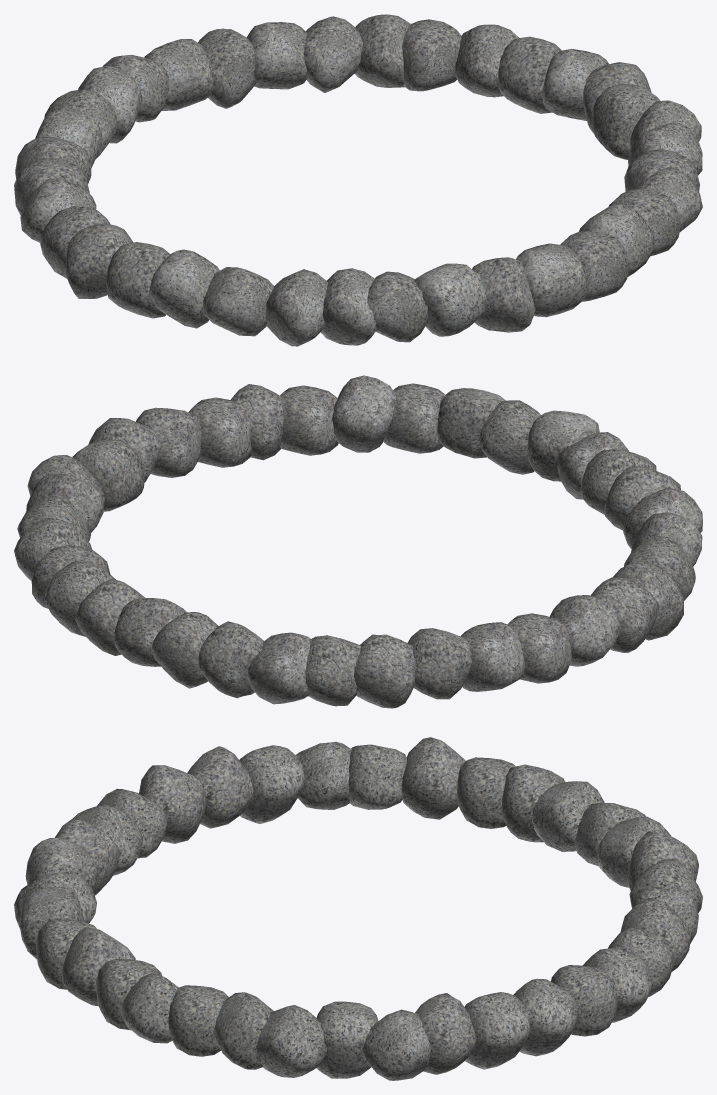
The model's file is RockCircle.fbx.
3 renders of one model, top to bottom at view 1: azimuth 30°, elevation 25°; view 2: azimuth 150°, elevation 25°; view 3: azimuth 270°, elevation 25°, orthographic.
Visible parts, largest first — view 1: pCube6, pCube4, pCube10, pCube11, pCube9, pCube27, pCube5, pCube25, pCube8, pCube24, pCube7, pCube12 (+24 smaller); view 2: pCube2, pCube19, pCube21, pCube18, pCube17, pCube1, pCube22, pCube35, pCube15, pCube3, pCube20, pCube16 (+24 smaller); view 3: pCube33, pCube15, pCube29, pCube31, pCube12, pCube32, pCube11, pCube10, pCube28, pCube30, pCube14, pCube35 (+24 smaller).
Boxes of the visible parts, box(x1,y1,x2,y2) form: pCube6: box(414, 263, 486, 336); pCube4: box(516, 243, 586, 317); pCube10: box(202, 267, 273, 336); pCube11: box(148, 249, 219, 328); pCube9: box(265, 269, 327, 346); pCube27: box(402, 19, 461, 91); pCube5: box(472, 257, 535, 332); pCube25: box(304, 16, 362, 92); pCube8: box(321, 268, 376, 345); pCube24: box(246, 22, 307, 89); pCube7: box(367, 271, 428, 342); pCube12: box(105, 242, 170, 318); pCube2: box(332, 375, 395, 452); pCube19: box(354, 634, 415, 708); pCube21: box(247, 632, 311, 704); pCube18: box(407, 628, 472, 699); pCube17: box(460, 622, 525, 691); pCube1: box(280, 385, 338, 455); pCube22: box(198, 621, 263, 698); pCube35: box(188, 397, 252, 467); pCube15: box(549, 595, 620, 666); pCube3: box(383, 383, 445, 453); pCube20: box(305, 635, 360, 706); pCube16: box(507, 613, 572, 683); pCube33: box(256, 1005, 327, 1077); pCube15: box(401, 737, 465, 819); pCube29: box(464, 992, 530, 1069); pCube31: box(362, 1009, 430, 1080); pCube12: box(239, 745, 304, 823); pCube32: box(316, 1001, 378, 1078); pCube11: box(187, 746, 253, 828); pCube10: box(139, 765, 206, 843); pCube28: box(513, 978, 577, 1056); pCube30: box(415, 993, 476, 1074); pCube14: box(348, 744, 406, 809); pCube35: box(168, 985, 228, 1056).
Size of the model in its own units: 0.5083 by 0.0623 by 0.4877.
Materials: 1 (1 with a texture image).
